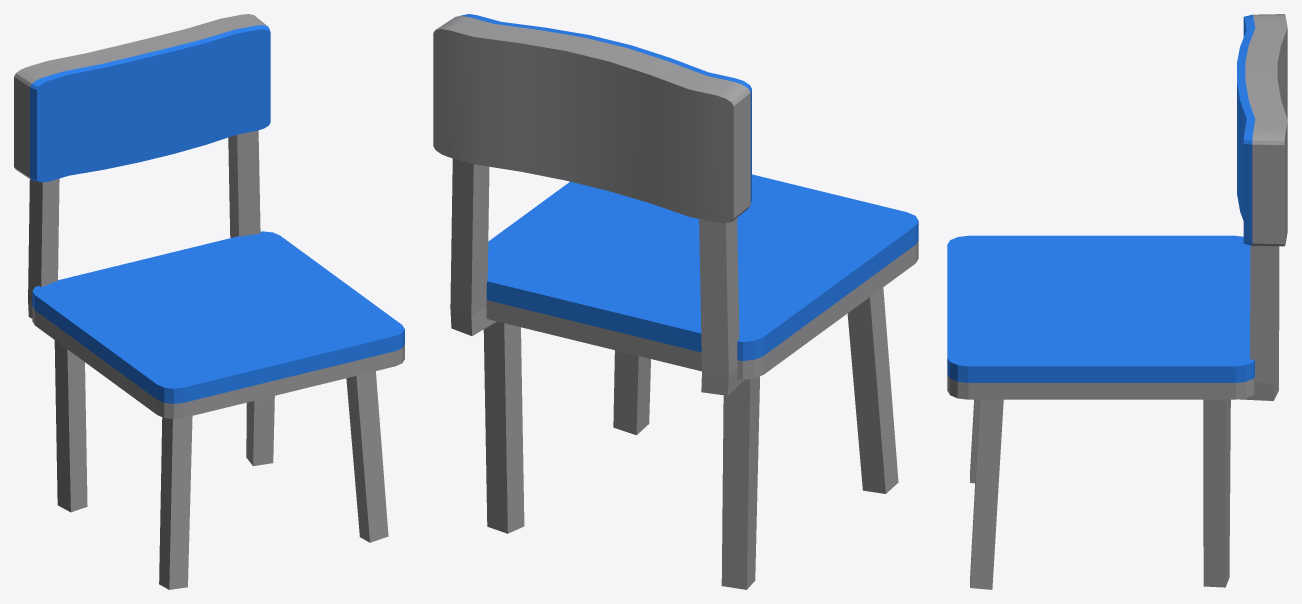
Rendered from blue_chair.glb.
The picture shows the model from 3 angles, left to right: view 1: azimuth 30°, elevation 25°; view 2: azimuth 150°, elevation 25°; view 3: azimuth 270°, elevation 25°; orthographic projection. The views are drawn at different scales.
Visible parts, largest first — view 1: Cube.002; view 2: Cube.002; view 3: Cube.002.
Part boxes in pixels (x1,y1,x2,y2): Cube.002: [14, 14, 404, 589]; Cube.002: [433, 14, 918, 589]; Cube.002: [947, 14, 1287, 589].
Size of the model in its own units: 0.7088 by 1.17 by 0.7805.
